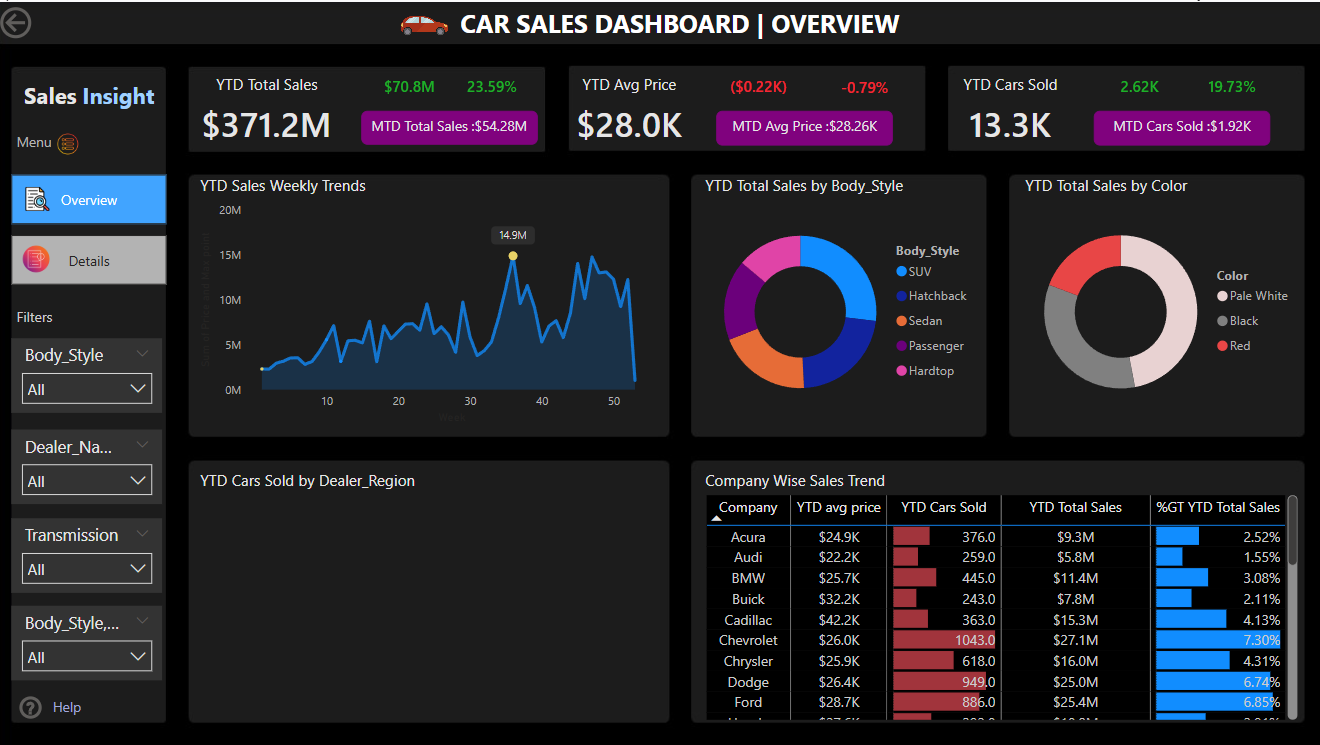

This screenshot's page, from the dashboard's own definition file:
{"tool":"powerbi","page":{"name":"Overview","canvas":[1280,720],"ordinal":0},"visuals":[{"type":"card","title":"YTD Total Sales","fields":{"Values":["Car Sales.YTD Total Sales"]},"box":[182.7,69.1,160.5,79],"z":0},{"type":"card","fields":{"Values":["Car Sales.Sales Difference"]},"box":[355.4,68.6,89.2,26.1],"z":1000},{"type":"card","fields":{"Values":["Car Sales.YoY Sales Growth"]},"box":[435,68.6,89.2,26.1],"z":2000},{"type":"card","fields":{"Values":["Car Sales.MTD KPI"]},"box":[353,105,170,33],"z":3000},{"type":"card","title":"YTD Avg Price","fields":{"Values":["Car Sales.YTD avg price"]},"box":[532.1,69.1,160.5,79],"z":4000},{"type":"card","fields":{"Values":["Car Sales.Avg Price Diff"]},"box":[692.6,69.1,88.9,25.9],"z":5000},{"type":"card","fields":{"Values":["Car Sales.YoY Avg Price Growth"]},"box":[795.1,70.4,88.9,25.9],"z":6000},{"type":"card","fields":{"Values":["Car Sales.MTD AVg KPI"]},"box":[696.3,104.9,170.4,33.3],"z":7000},{"type":"card","title":"YTD Cars Sold","fields":{"Values":["Car Sales.YTD Cars Sold"]},"box":[900,69.1,160.5,79],"z":8000},{"type":"card","fields":{"Values":["Car Sales.Cars Sold Diff"]},"box":[1060.5,69.1,88.9,25.9],"z":9000},{"type":"card","fields":{"Values":["Car Sales.YoY Car Sold Growth"]},"box":[1149.4,69.1,88.9,25.9],"z":10000},{"type":"card","fields":{"Values":["Car Sales.MTD Cars Sold KPI"]},"box":[1060.5,104.9,170.4,33.3],"z":11000},{"type":"areaChart","title":"YTD Sales Weekly Trends ","fields":{"Category":["Calender Table.Week"],"Y":["Sum(Car Sales.Price)","Car Sales.Max point"]},"box":[192.6,166.7,446.9,245.7],"z":12000},{"type":"donutChart","fields":{"Category":["Car Sales.Body_Style"],"Y":["Car Sales.YTD Total Sales"]},"box":[680.2,166.7,272.8,245.7],"z":13000},{"type":"donutChart","fields":{"Y":["Car Sales.YTD Total Sales"],"Category":["Car Sales.Color"]},"box":[988.9,166.7,272.8,245.7],"z":14000},{"type":"map","fields":{"Category":["Car Sales.Dealer_Region"],"Size":["Car Sales.YTD Cars Sold"]},"box":[192.6,450.6,455.6,239.5],"z":15000},{"type":"actionButton","box":[0,0,100,40],"z":16000},{"type":"tableEx","title":"Company Wise Sales Trend","fields":{"Values":["Car Sales.Company","Car Sales.YTD avg price","Car Sales.YTD Cars Sold","Car Sales.YTD Total Sales1","Car Sales.YTD Total Sales"]},"box":[680.2,450.6,581.5,246.9],"z":17000},{"type":"textbox","box":[444.4,0,444.4,46.9],"z":18000},{"type":"slicer","fields":{"Values":["Car Sales.Body_Style"]},"box":[16,324.7,145.7,71.6],"z":19000},{"type":"slicer","fields":{"Values":["Car Sales.Dealer_Name"]},"box":[16,412.3,145.7,71.6],"z":20000},{"type":"slicer","fields":{"Values":["Car Sales.Transmission"]},"box":[16,498.8,145.7,71.6],"z":21000},{"type":"slicer","fields":{"Values":["Car Sales.Body_Style","Car Sales.Engine"]},"box":[16,582.7,145.7,71.6],"z":22000},{"type":"textbox","box":[16,290.1,150.6,34.6],"z":23000},{"type":"textbox","box":[16,70.4,150.6,39.5],"z":24000},{"type":"textbox","box":[16,121,150.6,34.6],"z":25000},{"type":"pageNavigator","box":[16,166.7,150.6,107.4],"z":26000},{"type":"actionButton","box":[19.1,665.5,103.6,30],"z":27000},{"type":"textbox","box":[50.6,665.4,58,34.6],"z":28000},{"type":"image","box":[385.2,4.9,59.3,35.8],"z":29000},{"type":"image","box":[22.7,173.6,35.5,32.7],"z":30001},{"type":"image","box":[21.8,229.1,36.4,37.3],"z":30002},{"type":"image","box":[50,121.8,41.8,30.9],"z":30003}]}

Visuals, with their boxes on the page's 1280x720 design canvas (x1, y1, x2, y2). These are canvas units, not pixel positions in the 1320x745 screenshot, which may show the page scaled, cropped or inside an application window:
"YTD Total Sales" card: <box>183,69,343,148</box>
card - Car Sales.Sales Difference: <box>355,69,445,95</box>
card - Car Sales.YoY Sales Growth: <box>435,69,524,95</box>
card - Car Sales.MTD KPI: <box>353,105,523,138</box>
"YTD Avg Price" card: <box>532,69,693,148</box>
card - Car Sales.Avg Price Diff: <box>693,69,782,95</box>
card - Car Sales.YoY Avg Price Growth: <box>795,70,884,96</box>
card - Car Sales.MTD AVg KPI: <box>696,105,867,138</box>
"YTD Cars Sold" card: <box>900,69,1060,148</box>
card - Car Sales.Cars Sold Diff: <box>1060,69,1149,95</box>
card - Car Sales.YoY Car Sold Growth: <box>1149,69,1238,95</box>
card - Car Sales.MTD Cars Sold KPI: <box>1060,105,1231,138</box>
"YTD Sales Weekly Trends " areaChart: <box>193,167,640,412</box>
donutChart - Car Sales.Body_Style x Car Sales.YTD Total Sales: <box>680,167,953,412</box>
donutChart - Car Sales.YTD Total Sales x Car Sales.Color: <box>989,167,1262,412</box>
map - Car Sales.Dealer_Region x Car Sales.YTD Cars Sold: <box>193,451,648,690</box>
actionButton: <box>0,0,100,40</box>
"Company Wise Sales Trend" tableEx: <box>680,451,1262,698</box>
textbox: <box>444,0,889,47</box>
slicer - Car Sales.Body_Style: <box>16,325,162,396</box>
slicer - Car Sales.Dealer_Name: <box>16,412,162,484</box>
slicer - Car Sales.Transmission: <box>16,499,162,570</box>
slicer - Car Sales.Body_Style x Car Sales.Engine: <box>16,583,162,654</box>
textbox: <box>16,290,167,325</box>
textbox: <box>16,70,167,110</box>
textbox: <box>16,121,167,156</box>
pageNavigator: <box>16,167,167,274</box>
actionButton: <box>19,666,123,696</box>
textbox: <box>51,665,109,700</box>
image: <box>385,5,444,41</box>
image: <box>23,174,58,206</box>
image: <box>22,229,58,266</box>
image: <box>50,122,92,153</box>
